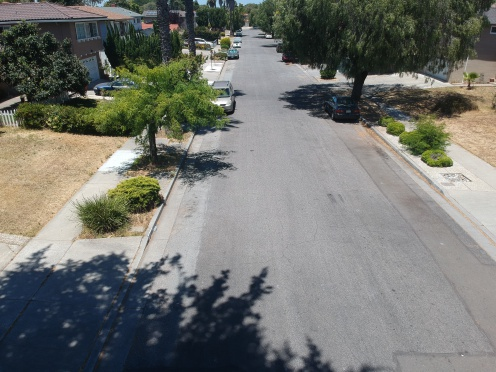bottle: (148, 223, 160, 233)
